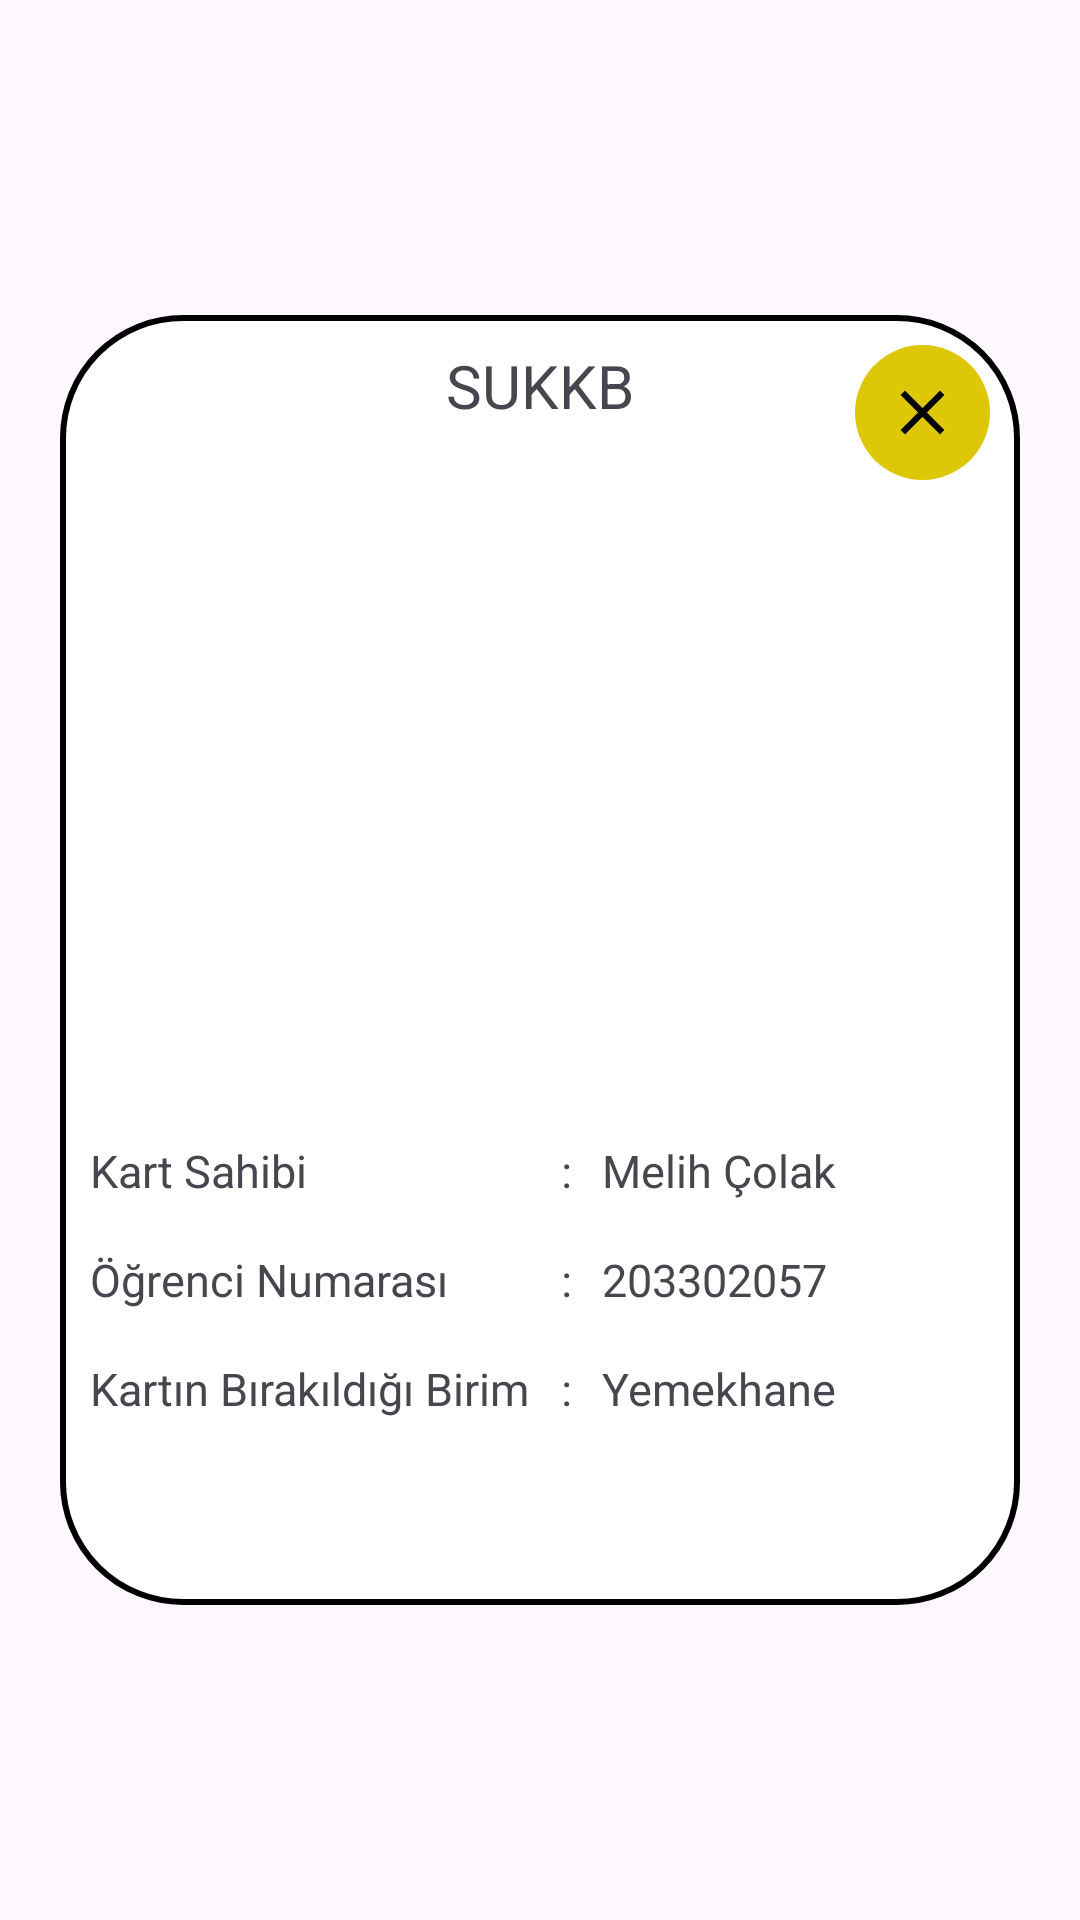

Locate icon controls on the screen. Image size 1080px×1920px, boxes as (x1, y1, x2, y2).
kapat: (855, 345, 990, 480)
